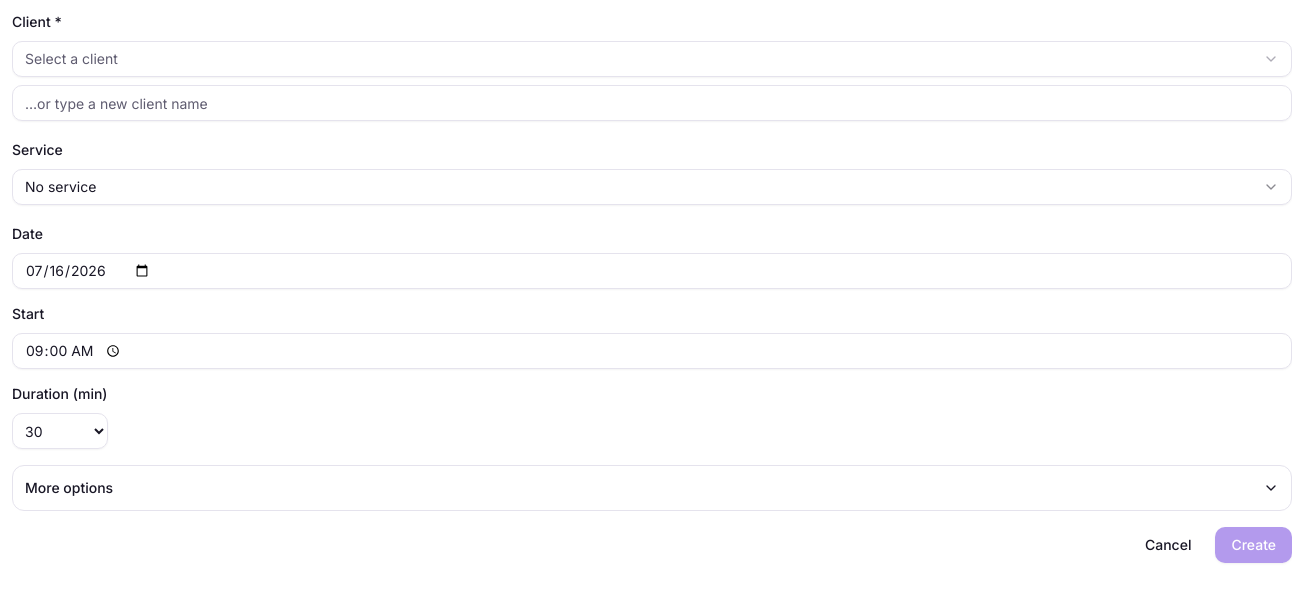
AppointmentForm › blocks an appointment that would end after midnight before the API
The width and height of the screenshot is (1304, 616).
In the field with placeholder "…or type a new client name": (652,103) [12,85,1292,121], type "Ada"
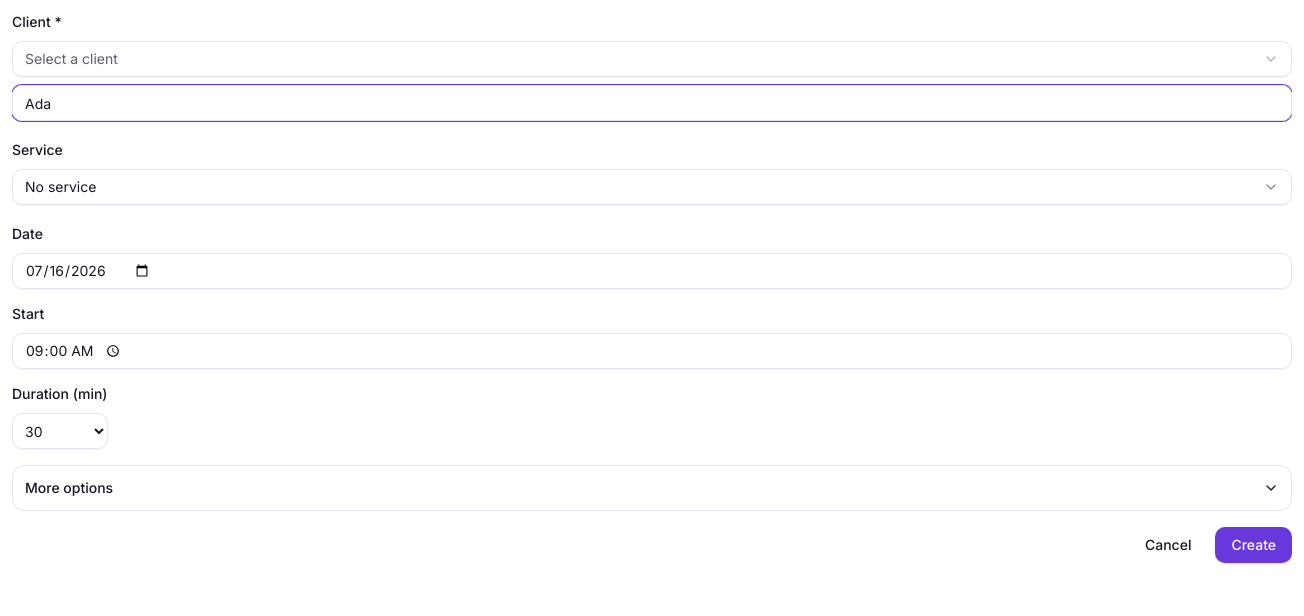
Replace the text in the time field labelled "Start" with "23:30": (652,351) [12,333,1292,369]
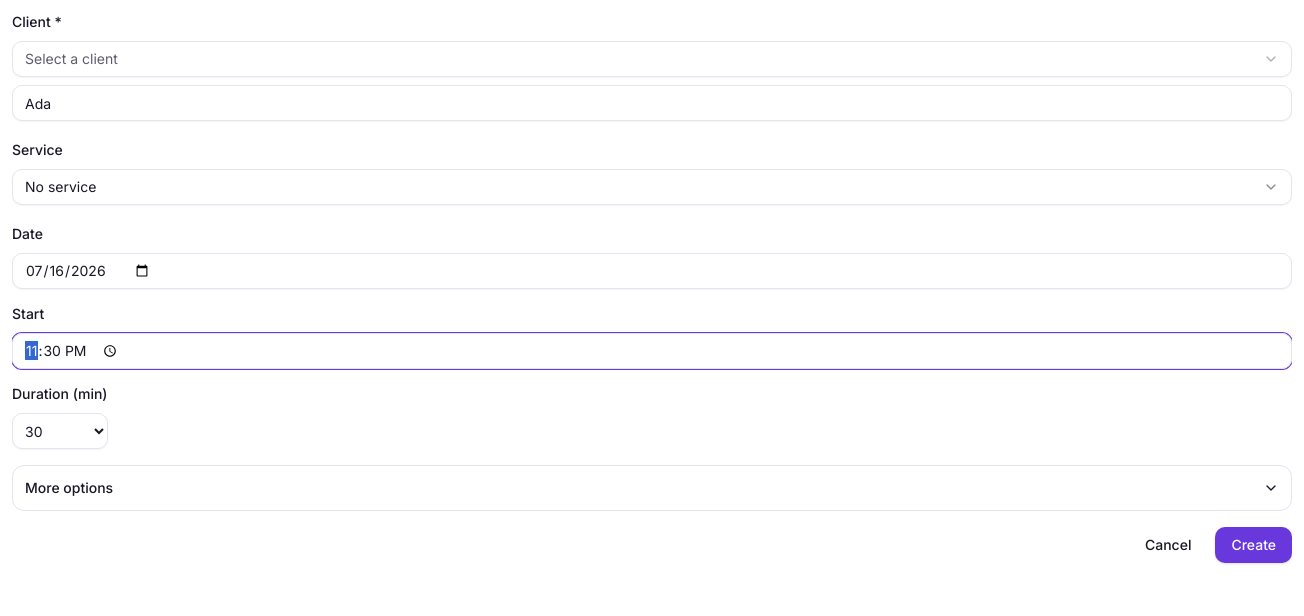
Select "60" in the dropdown labelled "Duration (min)": (60,431) [12,413,108,449]
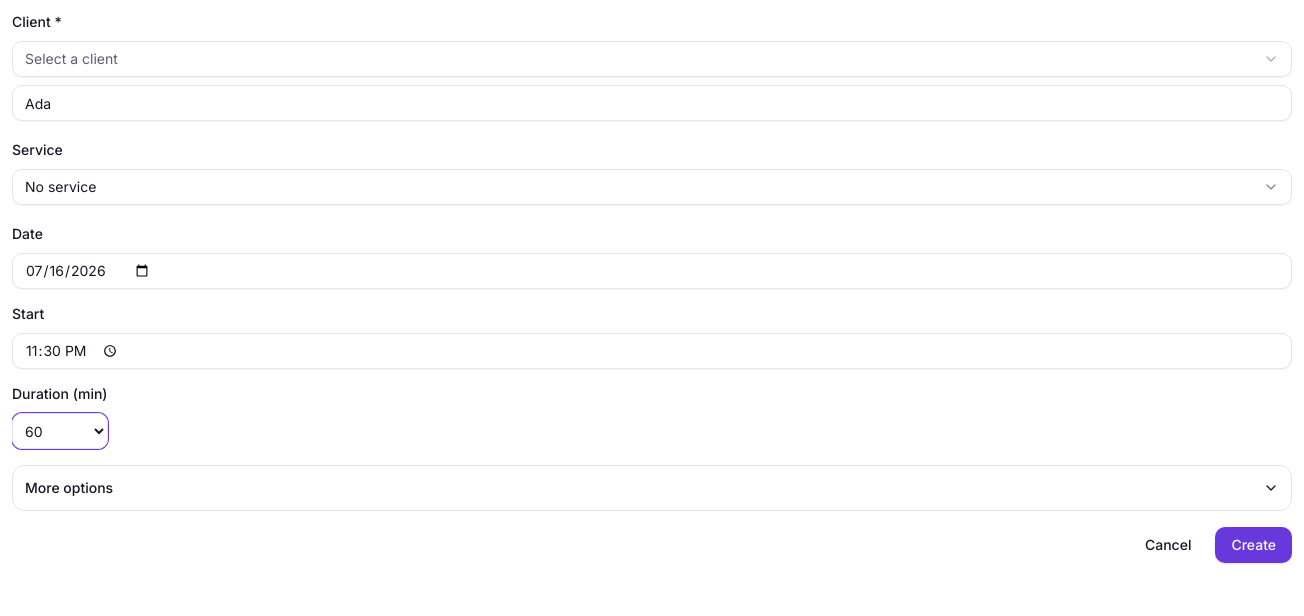
Click the button "Create": (1254,545) [1215,527,1292,563]
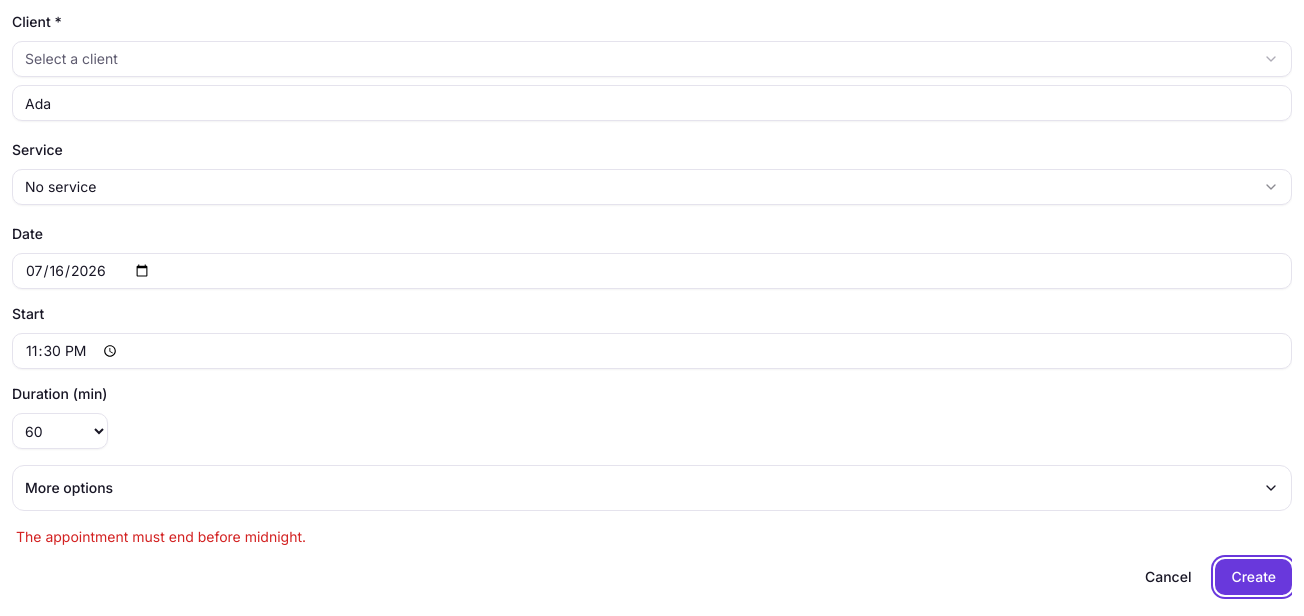
Result: the message shows "before midnight" at [16,528,306,545]
